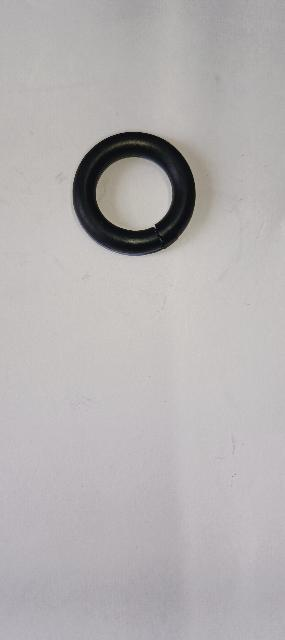crack: (151, 220, 168, 253)
